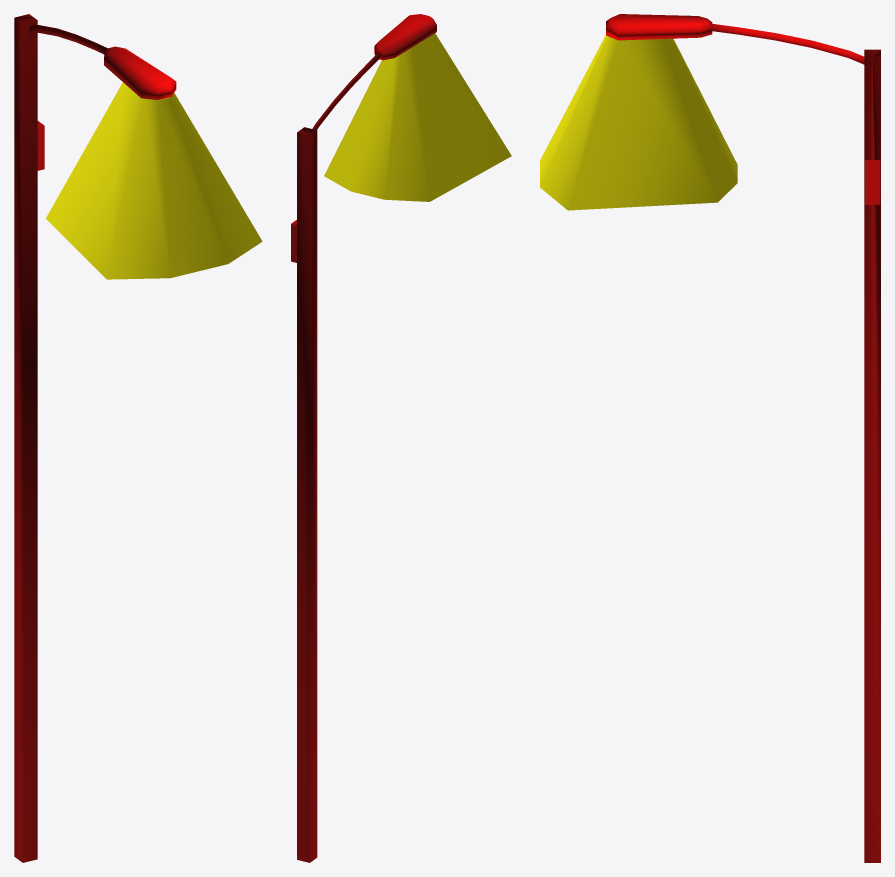
Rendered from StreetLamp.glb.
3 views of the same model, side by side, from view 1: azimuth 30°, elevation 25°; view 2: azimuth 150°, elevation 25°; view 3: azimuth 270°, elevation 25° (orthographic). The views are drawn at different scales.
Visible parts, largest first — view 1: StreetLamp; view 2: StreetLamp; view 3: StreetLamp.
Boxes of the visible parts, x1=… form: StreetLamp: x1=14, y1=14, x2=262, y2=862; StreetLamp: x1=291, y1=14, x2=511, y2=862; StreetLamp: x1=540, y1=14, x2=880, y2=862.
Bounding box in the file's own units: 10.41 × 55.79 × 20.53.
